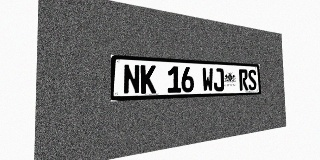1: (167, 66, 181, 93)
6: (181, 67, 194, 92)
J: (213, 68, 224, 91)
K: (140, 65, 156, 94)
N: (123, 64, 140, 94)
R: (239, 69, 248, 91)
S: (248, 69, 257, 90)
W: (202, 67, 214, 92)
